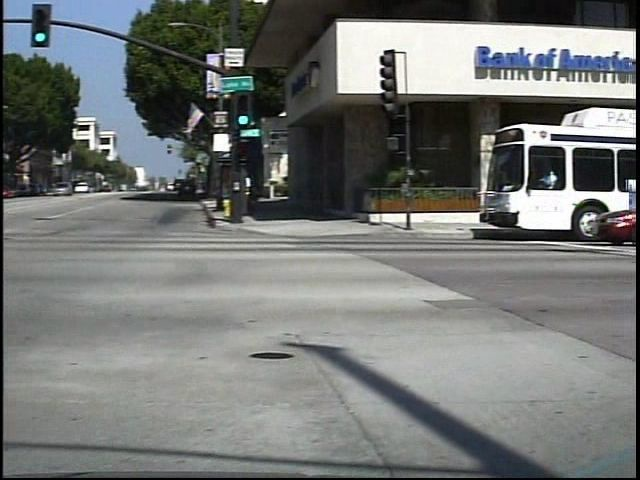person: (247, 167, 269, 217)
